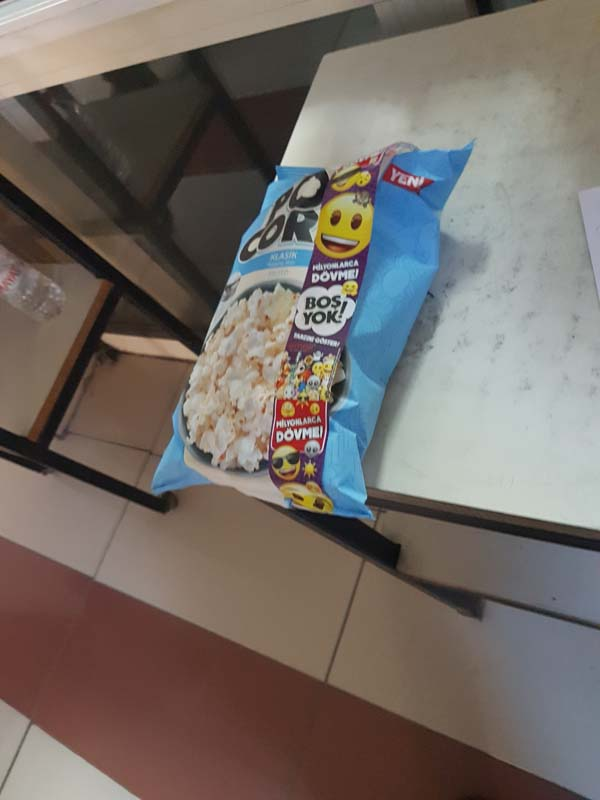popcorn: (132, 131, 504, 523)
